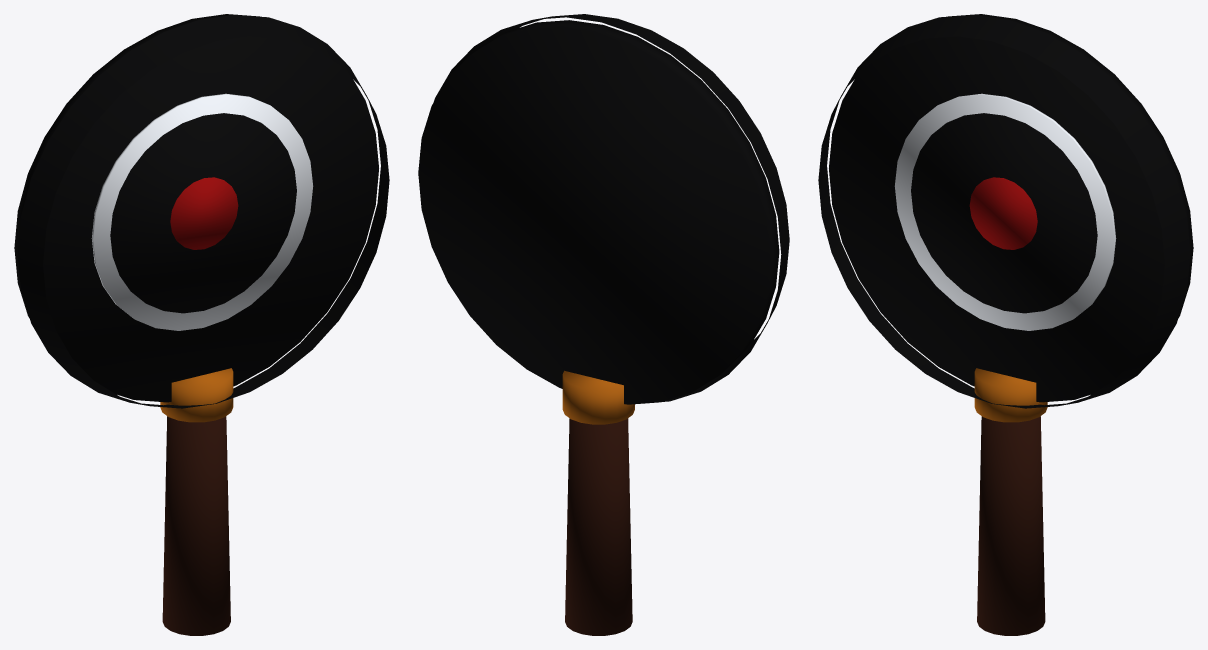
File: cozy_tt_paddle_cast_iron_pan.obj
The picture shows the model from 3 angles, left to right: view 1: azimuth 30°, elevation 25°; view 2: azimuth 150°, elevation 25°; view 3: azimuth 330°, elevation 25°; orthographic projection.
Visible parts, largest first — view 1: cozy_tt_paddle_cast_iron_pan_Mesh; view 2: cozy_tt_paddle_cast_iron_pan_Mesh; view 3: cozy_tt_paddle_cast_iron_pan_Mesh.
Boxes of the visible parts, left/top/right/bottom form: cozy_tt_paddle_cast_iron_pan_Mesh: left=14, top=14, right=389, bottom=635; cozy_tt_paddle_cast_iron_pan_Mesh: left=418, top=14, right=789, bottom=635; cozy_tt_paddle_cast_iron_pan_Mesh: left=818, top=14, right=1193, bottom=635.
Size of the model in its own units: 0.172 by 0.273 by 0.031.
